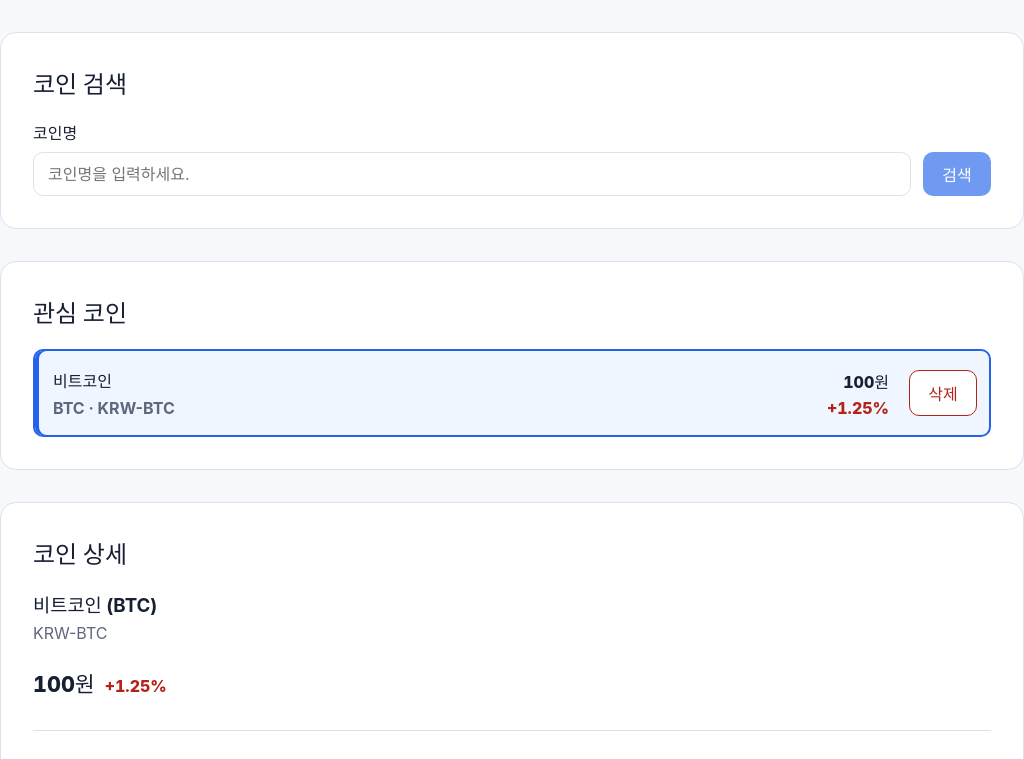
Test: DELETE 성공 후 서버 목록 reconciliation › 마지막 항목 삭제는 목록·선택·차트를 비우고 늦은 이전 차트 응답을 차단한다
Click the button with aria-label "비트코인 삭제" at (943, 393), box [909,370,977,416]
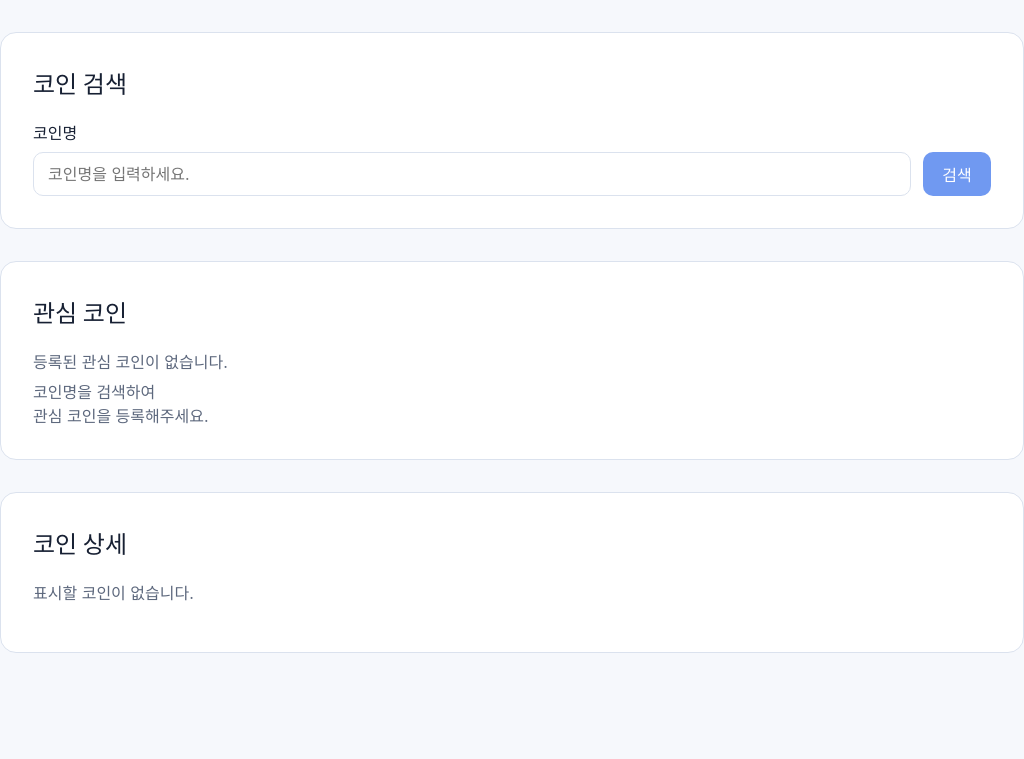
Result: the text "등록된 관심 코인이 없습니다." is shown at [33,352,228,372]
Result: the text "코인명을 검색하여" is shown at [33,382,155,402]
Result: the text "표시할 코인이 없습니다." is shown at [33,583,194,603]
